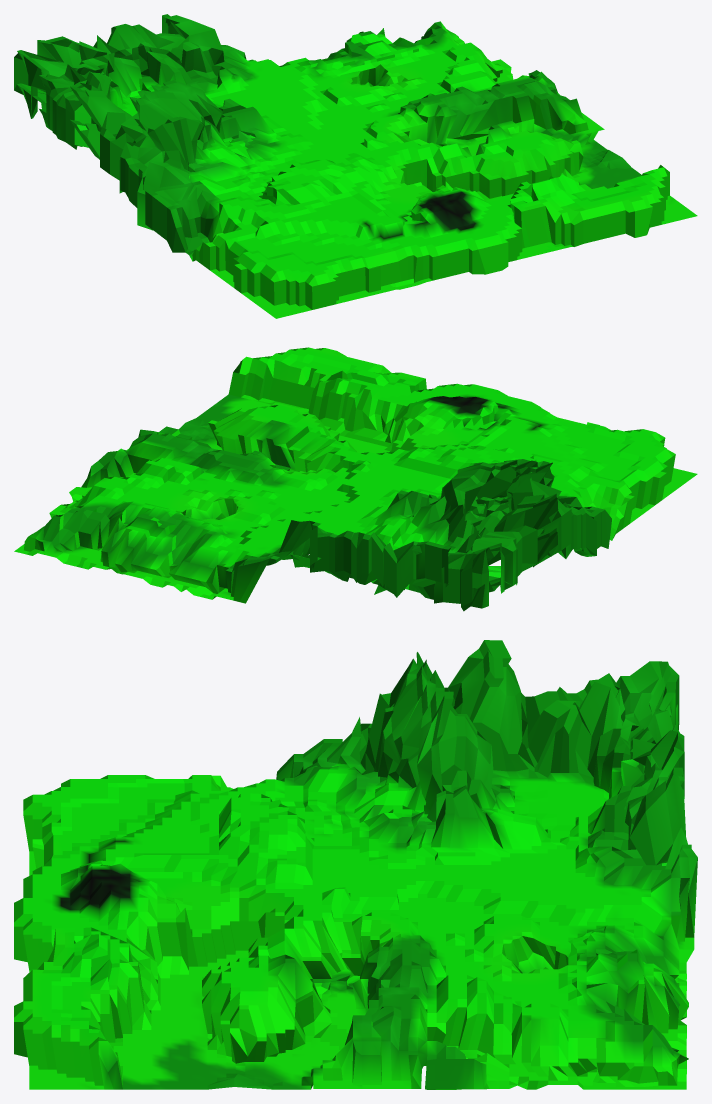
The model's file is mapa5b.fbx.
3 views of the same model, one above another, from view 1: azimuth 30°, elevation 25°; view 2: azimuth 150°, elevation 25°; view 3: azimuth 270°, elevation 25° (orthographic). The views are drawn at different scales.
Parts seen in each view (by area): view 1: Grid; view 2: Grid; view 3: Grid.
Boxes of the visible parts, left/top/right/bottom form: Grid: left=14, top=14, right=697, bottom=318; Grid: left=14, top=347, right=697, bottom=611; Grid: left=14, top=640, right=697, bottom=1089.
Bounding box in the file's own units: 24060 × 6544 × 22696.
